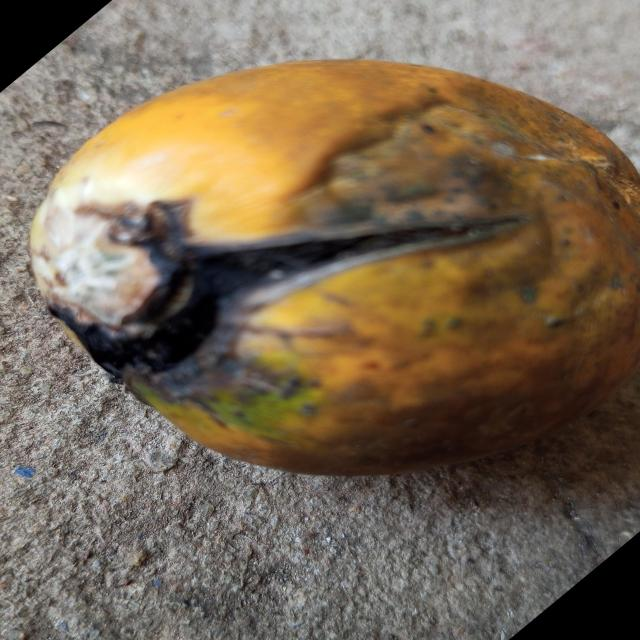damaged: (30, 60, 640, 475)
